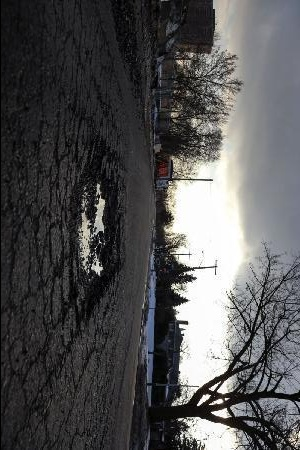pothole: (68, 155, 122, 316)
